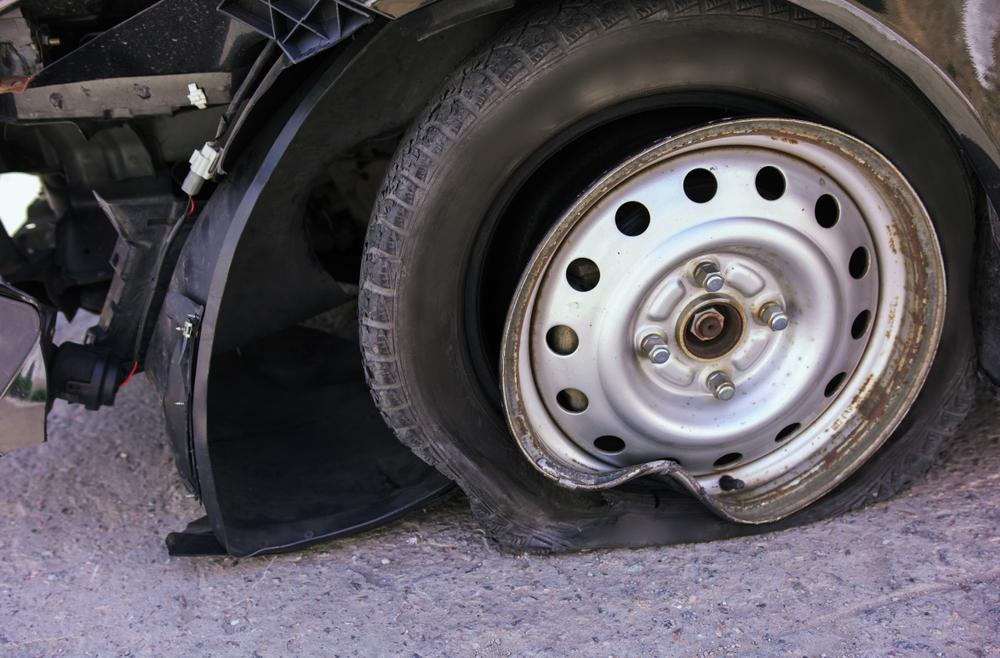tire flat: (362, 0, 981, 560)
